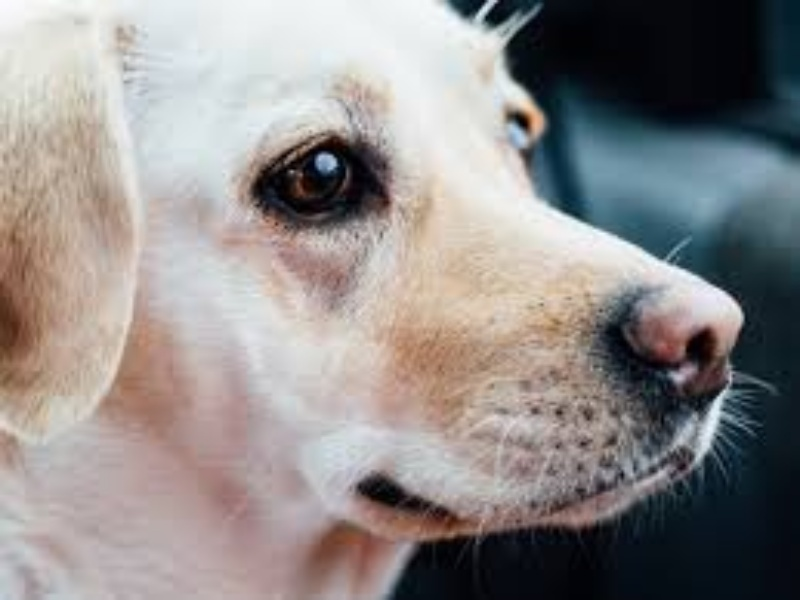dog: (4, 11, 755, 600)
